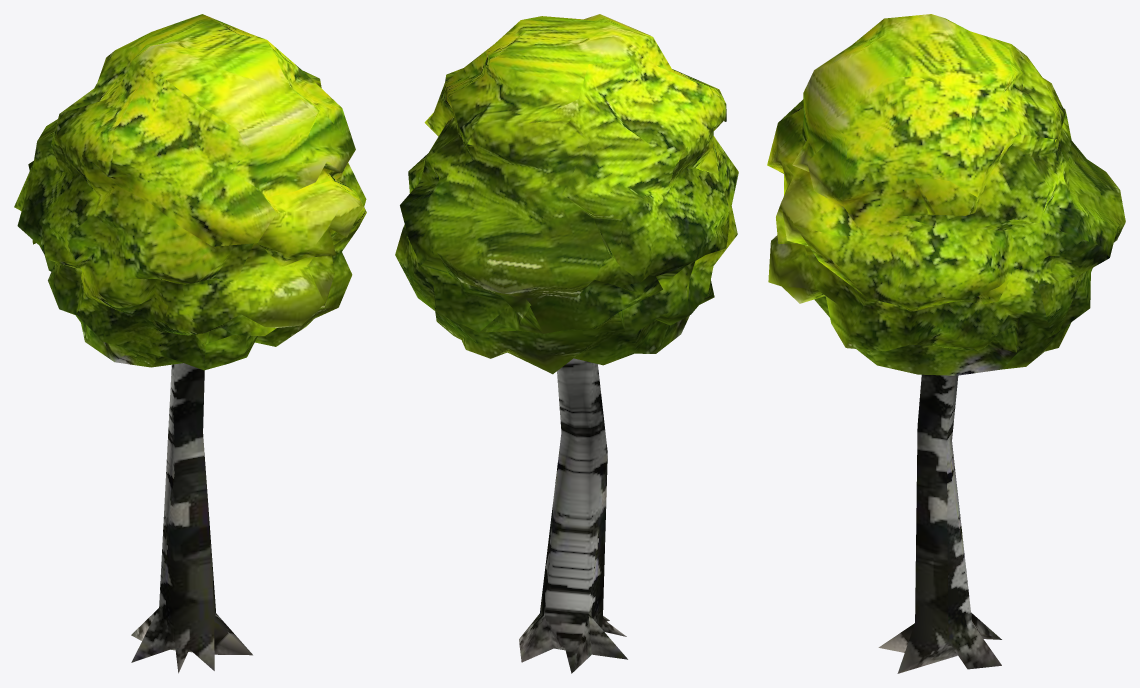
The model's file is birch.glb.
3 views of the same model, side by side, from view 1: azimuth 30°, elevation 25°; view 2: azimuth 150°, elevation 25°; view 3: azimuth 270°, elevation 25° (orthographic).
Parts seen in each view (by area): view 1: geometry_0; view 2: geometry_0; view 3: geometry_0.
Boxes of the visible parts, x1,y1,x2,y2 form: geometry_0: [14, 14, 366, 673]; geometry_0: [395, 14, 738, 673]; geometry_0: [767, 14, 1125, 673].
Size of the model in its own units: 3.09 by 6.02 by 3.14.
1 material, 1 textured.
